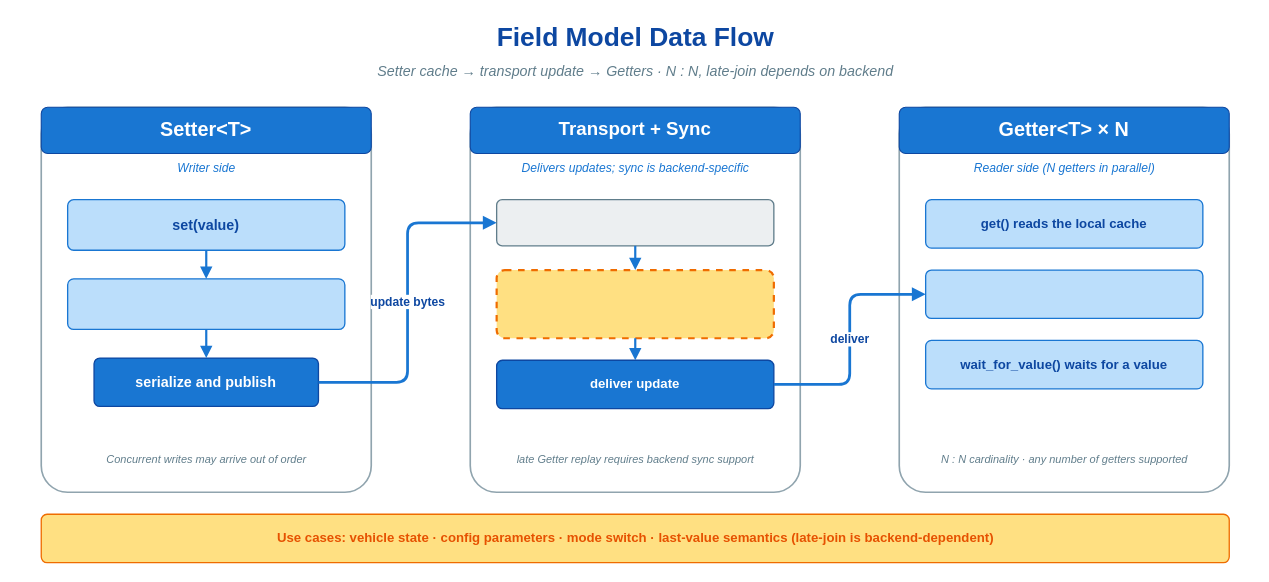
Image size: 1269x582. Some labels were removed from this diagram. Here are the shapes that lost their labels. From the top down, the box of each, then its label:
(495, 198, 774, 246): receive update
(66, 278, 345, 330): update Setter cache
(495, 268, 774, 339): route to matching Getters replay on join if supported
(924, 269, 1203, 319): listen(cb) on delivered updates
